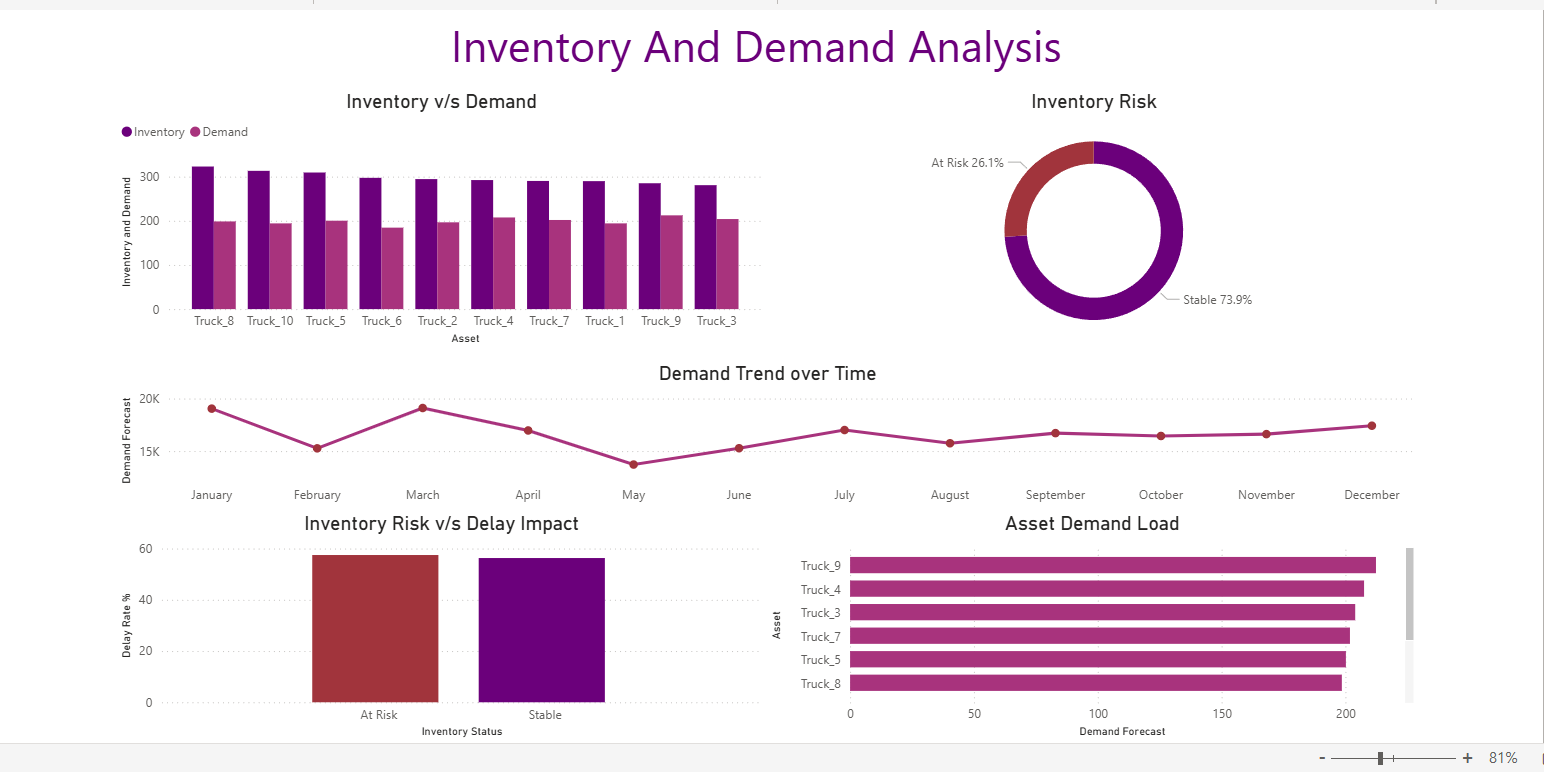

Layout of this report page (visuals, bound fields, positions):
{"tool":"powerbi","page":{"name":"Inventory and Demand Insights","canvas":[1280,720],"ordinal":2},"visuals":[{"type":"textbox","box":[323.8,0,629.8,78.2],"z":2001},{"type":"clusteredColumnChart","title":"Inventory v/s Demand","fields":{"Category":["supply_chain_cleaned.Asset_ID"],"Y":["Avg(supply_chain_cleaned.Inventory_Level)","Avg(supply_chain_cleaned.Demand_Forecast)"]},"box":[0,78.2,639.5,255.2],"z":2002},{"type":"donutChart","title":"Inventory Risk","fields":{"Y":["Key Measures.Total Shipments"],"Category":["supply_chain_cleaned.Inventory Status"]},"box":[640.8,78.2,639.5,255.2],"z":2003},{"type":"lineChart","title":"Demand Trend over Time","fields":{"Category":["supply_chain_cleaned.Timestamp.Variation.Date Hierarchy.Month"],"Y":["Sum(supply_chain_cleaned.Demand_Forecast)"]},"box":[0,345.8,1280.3,148.2],"z":2004},{"type":"clusteredColumnChart","title":"Inventory Risk v/s Delay Impact","fields":{"Y":["Key Measures.Delay Rate %"],"Category":["supply_chain_cleaned.Inventory Status"]},"box":[0,494,639.5,226.4],"z":2005},{"type":"barChart","title":"Asset Demand Load","fields":{"Category":["supply_chain_cleaned.Asset_ID"],"Y":["Avg(supply_chain_cleaned.Demand_Forecast)"]},"box":[639,494,641,226],"z":2006}]}

Visuals, with their boxes on the page's 1280x720 design canvas (x1, y1, x2, y2). These are canvas units, not pixel positions in the 1544x772 screenshot, which may show the page scaled, cropped or inside an application window:
textbox: [324, 0, 954, 78]
"Inventory v/s Demand" clusteredColumnChart: [0, 78, 640, 333]
"Inventory Risk" donutChart: [641, 78, 1280, 333]
"Demand Trend over Time" lineChart: [0, 346, 1280, 494]
"Inventory Risk v/s Delay Impact" clusteredColumnChart: [0, 494, 640, 720]
"Asset Demand Load" barChart: [639, 494, 1280, 720]
